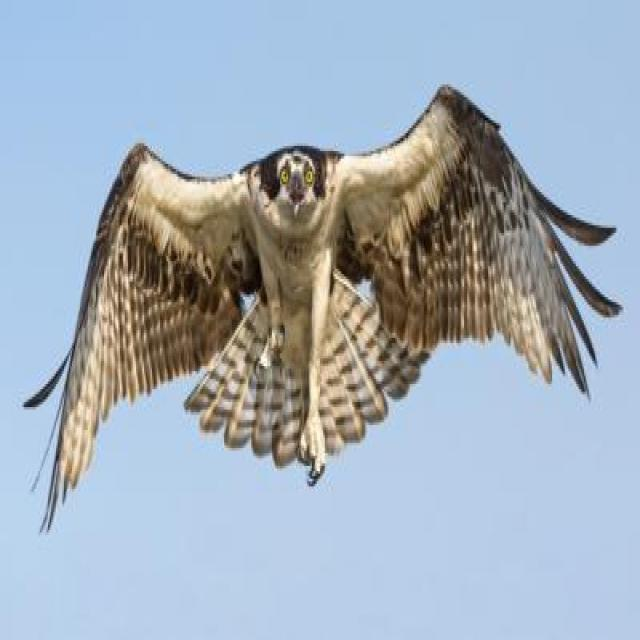birds: (22, 53, 628, 608)
